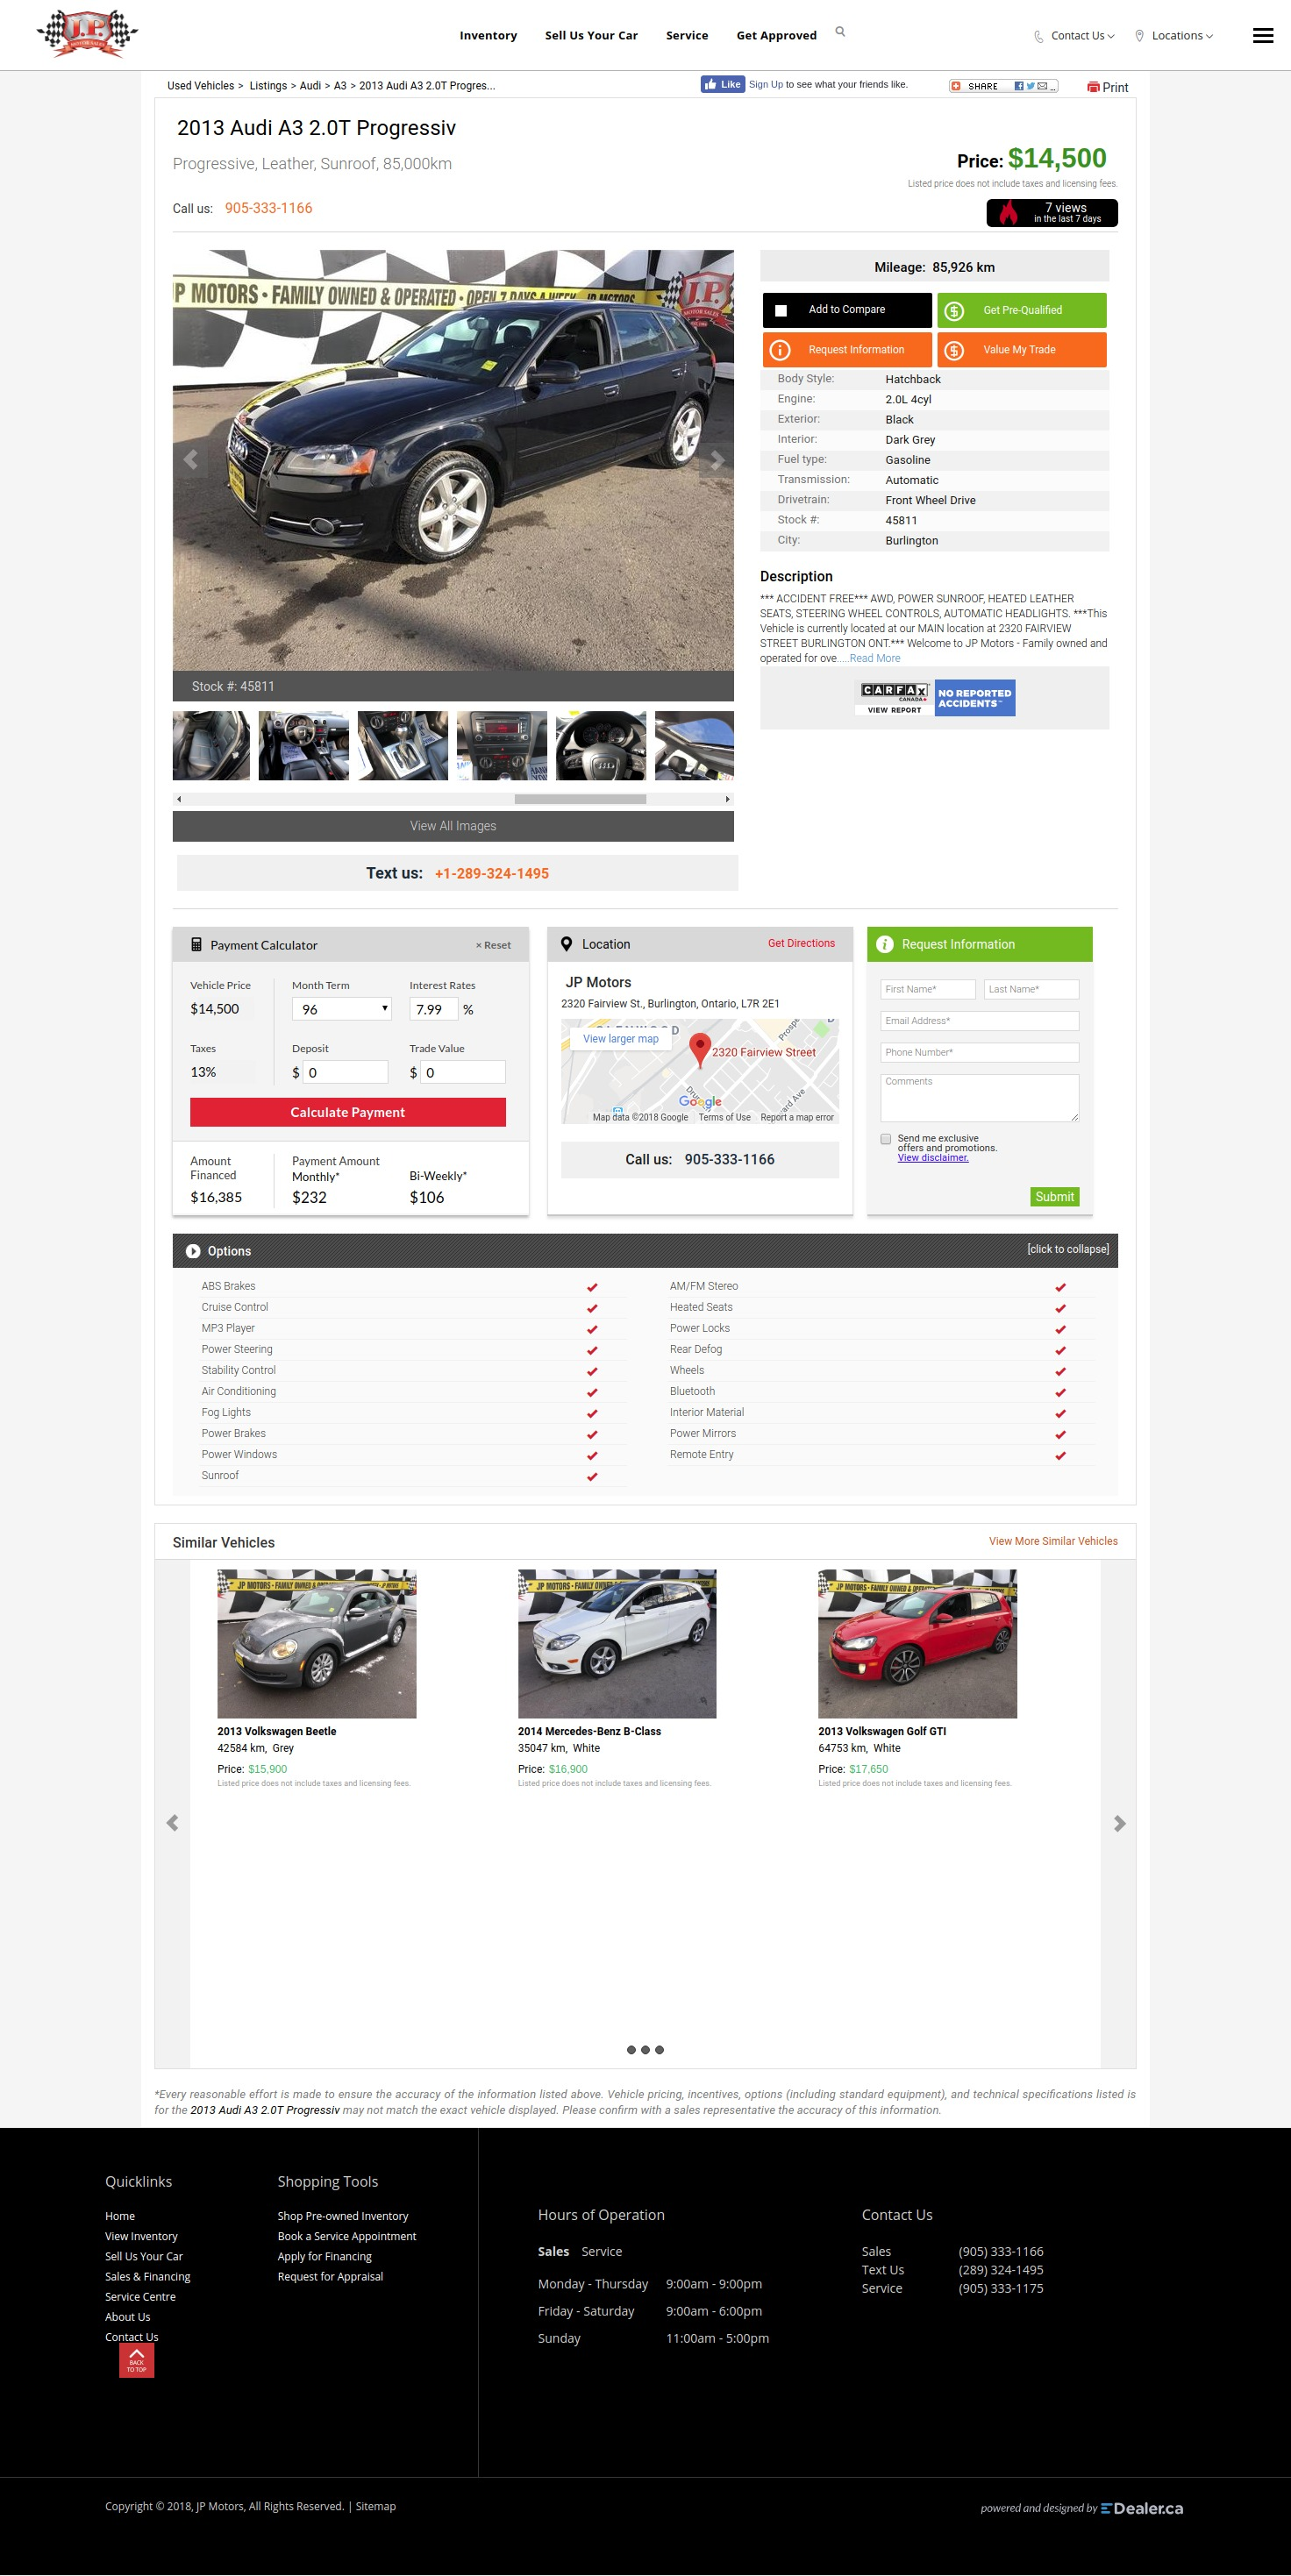car: (725, 797, 731, 803)
